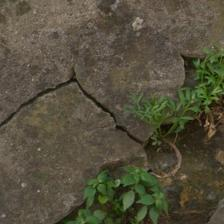Crack: (36, 4, 110, 70), (34, 44, 102, 102)
